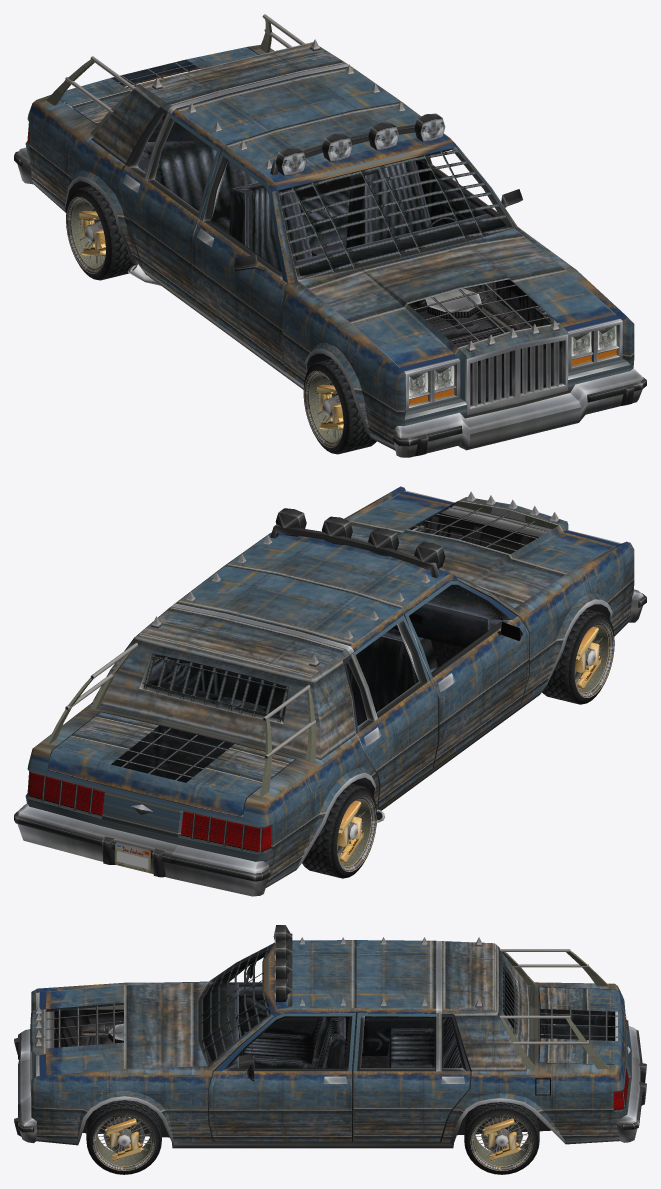
The model's file is ac grnwd.fbx.
3 views of the same model, one above another, from view 1: azimuth 30°, elevation 25°; view 2: azimuth 150°, elevation 25°; view 3: azimuth 270°, elevation 25° (orthographic). The views are drawn at different scales.
Parts seen in each view (by area): view 1: chassis, bonnet_ok, door_rf_ok, bump_front_ok, door_rr_ok, windscreen_ok, wheel, wheel_1, fari, boot_ok, door_lf_ok, zadnik; view 2: chassis, bonnet_ok, boot_ok, door_rf_ok, door_rr_ok, bump_rear_ok, wheel_1, wheel, fari, zadnik, door_lr_ok, plate_ok; view 3: chassis, door_lf_ok, bonnet_ok, door_lr_ok, boot_ok, wheel_2, wheel_3, zadnik, windscreen_ok, door_rf_ok, bump_rear_ok, bump_front_ok (+2 smaller).
Boxes of the visible parts, <box> form: chassis: <box>25,39,634,450</box>; bonnet_ok: <box>299,229,615,367</box>; door_rf_ok: <box>192,150,287,370</box>; bump_front_ok: <box>392,368,646,457</box>; door_rr_ok: <box>118,107,220,306</box>; windscreen_ok: <box>279,150,512,279</box>; wheel: <box>303,358,376,454</box>; wheel_1: <box>66,185,133,280</box>; fari: <box>270,113,445,175</box>; boot_ok: <box>60,47,257,124</box>; door_lf_ok: <box>427,158,522,228</box>; zadnik: <box>46,14,305,135</box>; chassis: <box>25,486,634,887</box>; bonnet_ok: <box>350,493,614,607</box>; boot_ok: <box>48,712,294,816</box>; door_rf_ok: <box>405,581,529,767</box>; door_rr_ok: <box>343,615,438,807</box>; bump_rear_ok: <box>14,803,270,896</box>; wheel_1: <box>302,783,376,878</box>; wheel: <box>542,609,614,704</box>; fari: <box>270,508,445,578</box>; zadnik: <box>46,643,315,796</box>; door_lr_ok: <box>150,656,205,691</box>; plate_ok: <box>115,842,150,872</box>; chassis: <box>30,937,631,1148</box>; door_lf_ok: <box>209,1013,355,1141</box>; bonnet_ok: <box>46,982,207,1075</box>; door_lr_ok: <box>353,1013,470,1141</box>; boot_ok: <box>539,987,625,1076</box>; wheel_2: <box>86,1100,161,1174</box>; wheel_3: <box>464,1102,539,1174</box>; zadnik: <box>499,949,608,1069</box>; windscreen_ok: <box>199,946,269,1064</box>; door_rf_ok: <box>229,963,345,1055</box>; bump_rear_ok: <box>616,1026,646,1142</box>; bump_front_ok: <box>14,1029,36,1143</box>.
Size of the model in its own units: 120 by 86 by 287.
19 materials, 17 textured.
